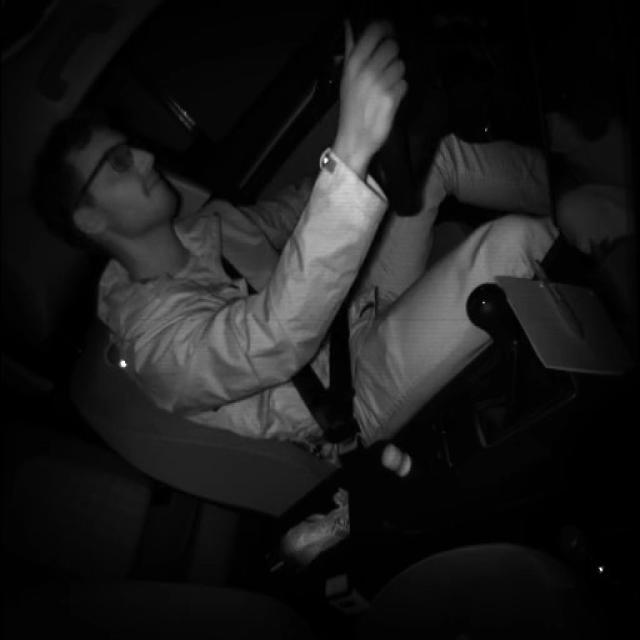pen: (531, 257, 586, 344)
